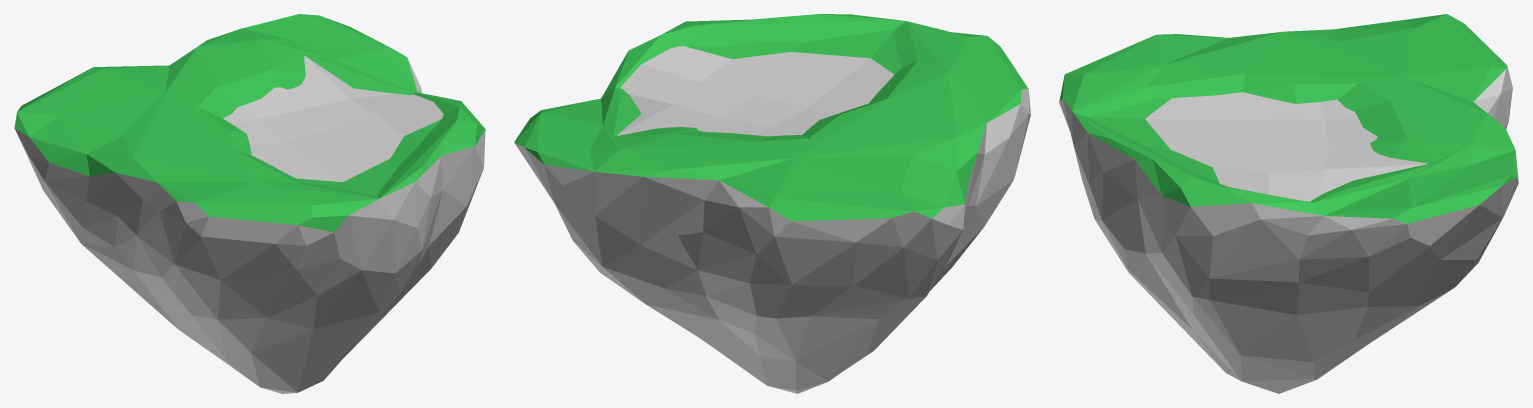
The model's file is island_7.fbx.
3 views of the same model, side by side, from view 1: azimuth 30°, elevation 25°; view 2: azimuth 150°, elevation 25°; view 3: azimuth 270°, elevation 25° (orthographic). The views are drawn at different scales.
Visible parts, largest first — view 1: Plane; view 2: Plane; view 3: Plane.
Part boxes in pixels (x1=…): Plane: x1=14, y1=14, x2=485, y2=393; Plane: x1=514, y1=14, x2=1030, y2=393; Plane: x1=1059, y1=14, x2=1518, y2=393.
Bounding box in the file's own units: 3096 × 2132 × 3090.
